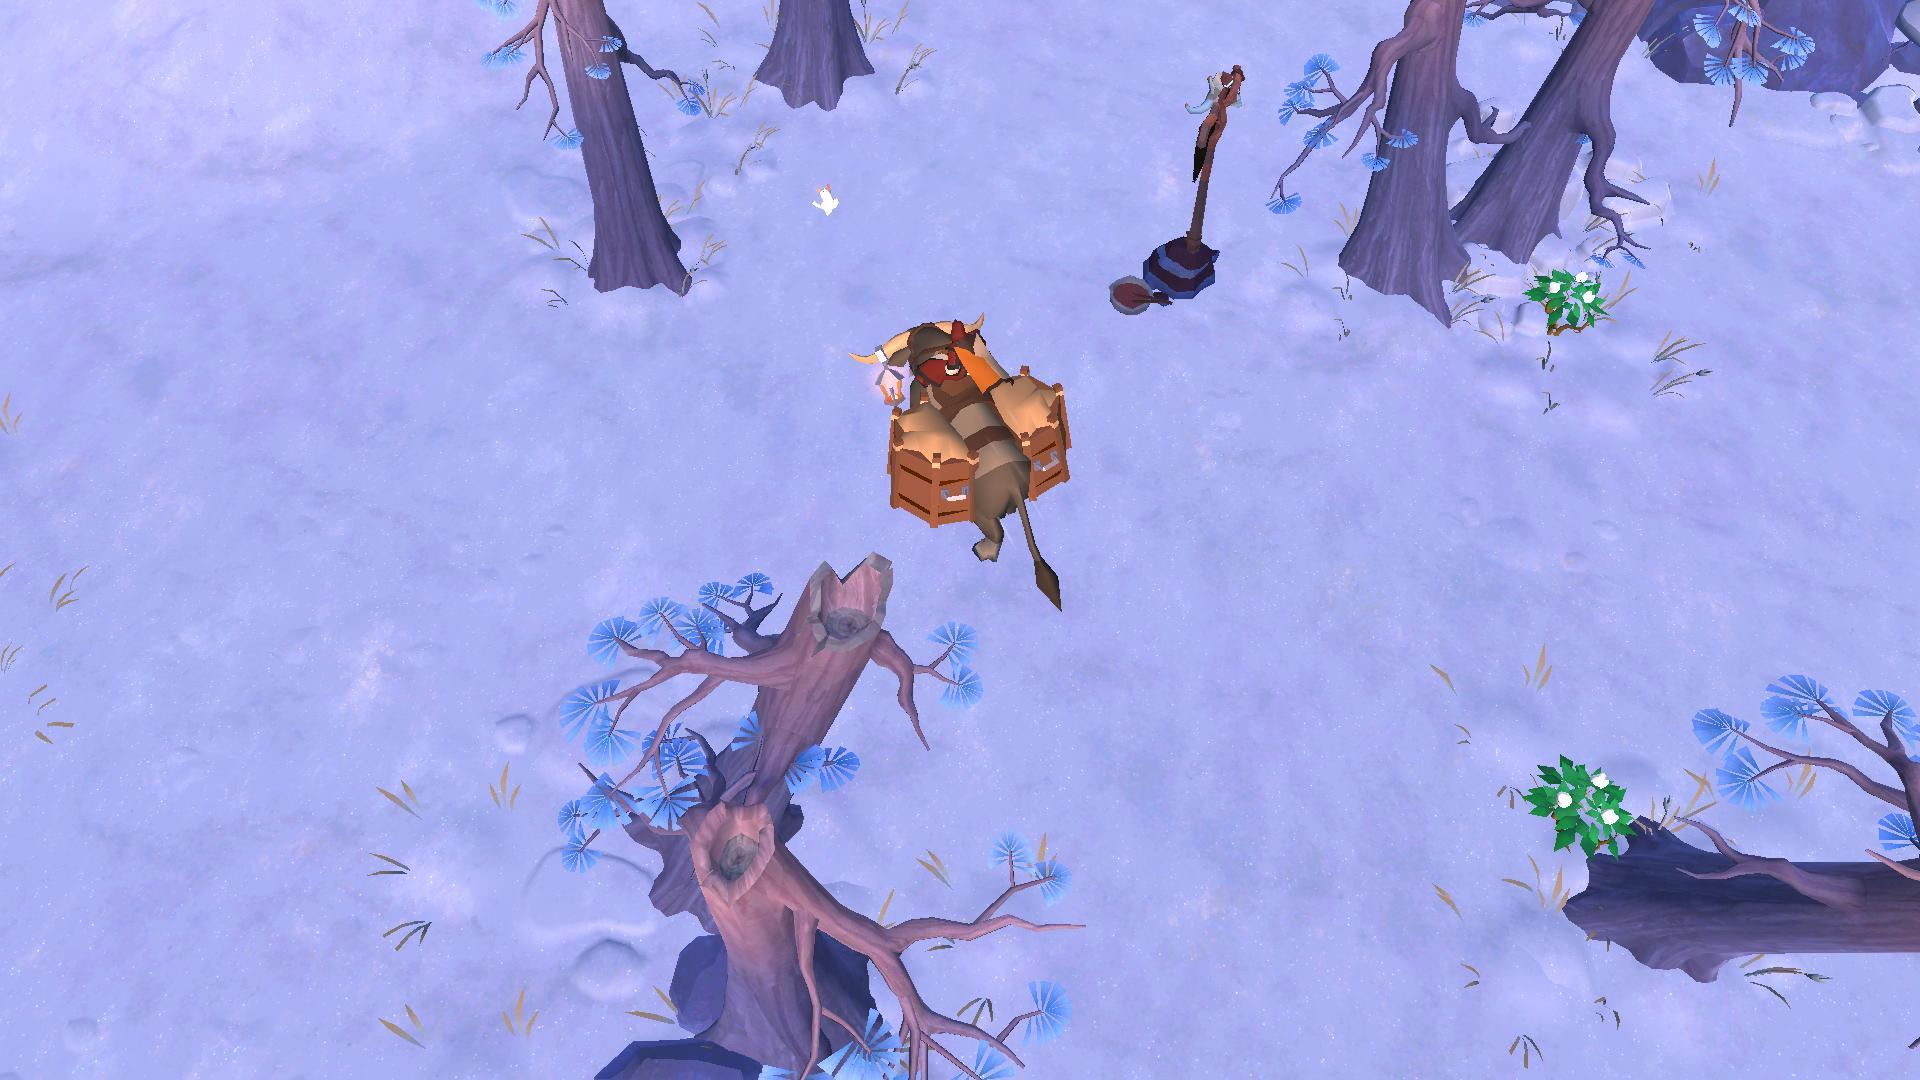fiber_t3: (1522, 746, 1634, 860), (1526, 260, 1600, 347)
